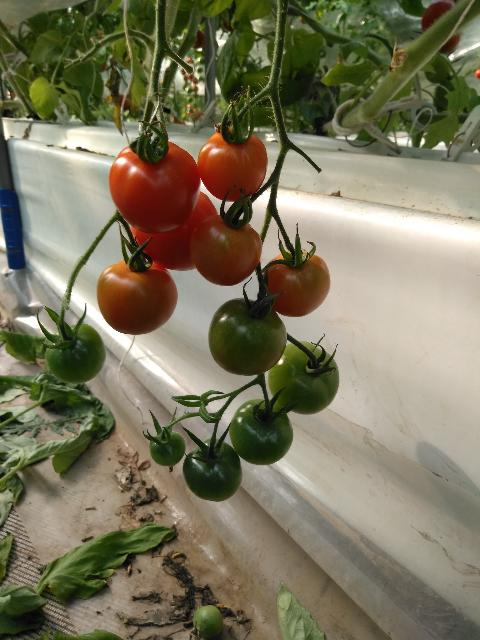l_fully_ripened: (108, 140, 201, 234), (130, 191, 219, 271), (197, 128, 268, 202)
l_green: (208, 298, 287, 376), (268, 341, 340, 415), (229, 398, 294, 466), (183, 438, 243, 502), (45, 323, 107, 384), (150, 430, 186, 466)
l_half_ripened: (96, 259, 178, 335), (190, 215, 263, 286), (262, 251, 331, 318)
